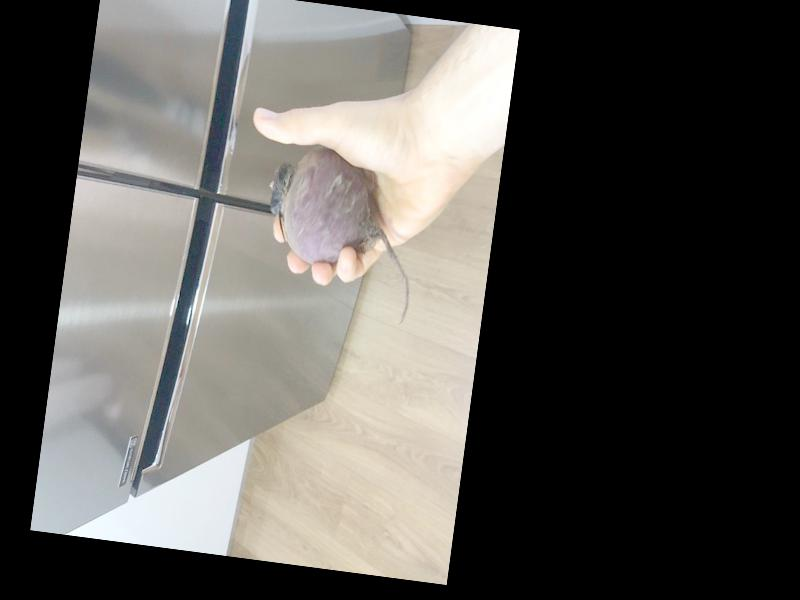Beet: (254, 141, 426, 325)
